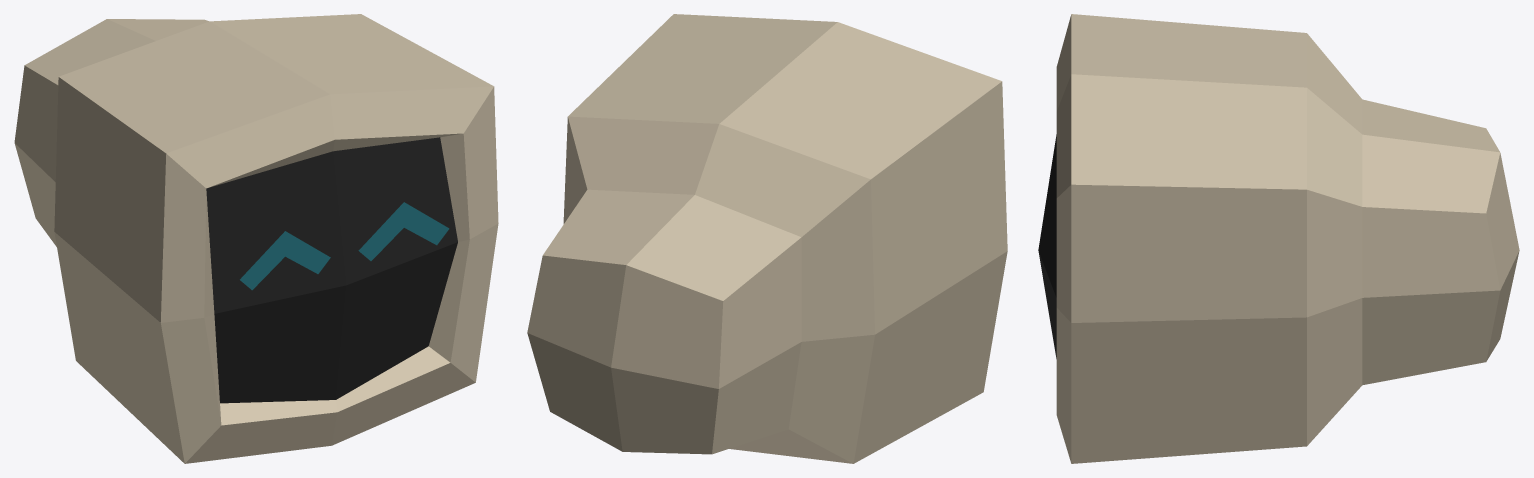
Rendered from friend_head.fbx.
3 renders of one model, left to right at view 1: azimuth 30°, elevation 25°; view 2: azimuth 150°, elevation 25°; view 3: azimuth 270°, elevation 25°, orthographic.
Parts seen in each view (by area): view 1: friend_head1; view 2: friend_head1; view 3: friend_head1.
Boxes of the visible parts, x1,y1,x2,y2 form: friend_head1: [14, 14, 498, 463]; friend_head1: [527, 14, 1007, 463]; friend_head1: [1038, 14, 1519, 463].
Size of the model in its own units: 1.76 by 1.75 by 2.21.
